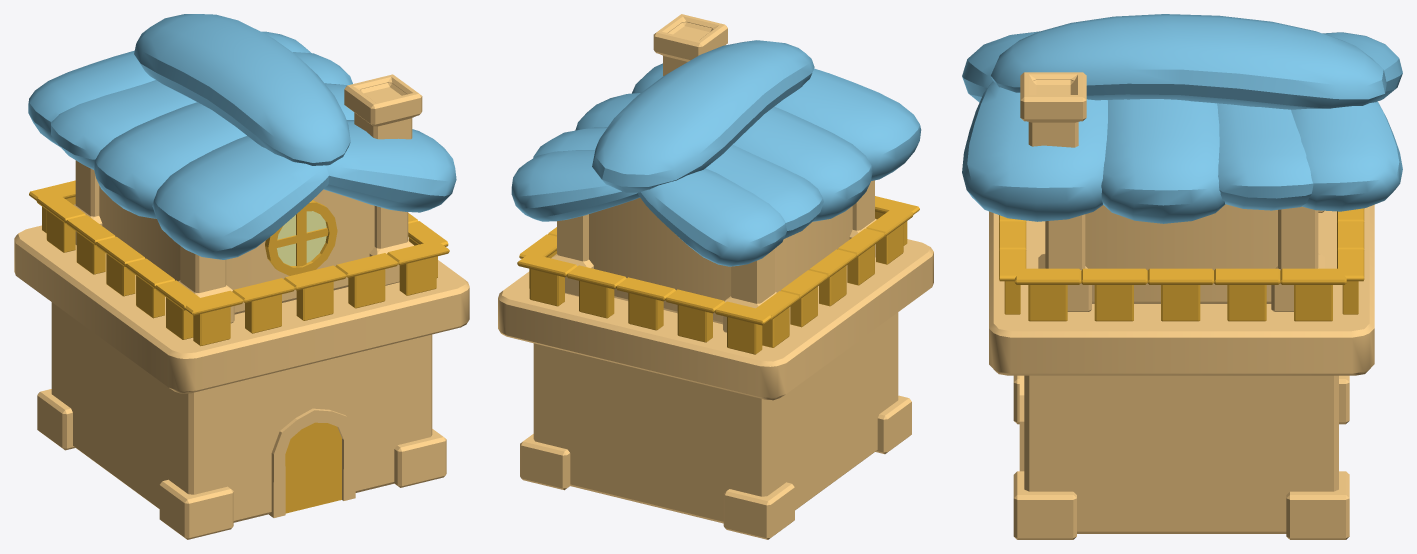
The model's file is House2.fbx.
3 renders of one model, left to right at view 1: azimuth 30°, elevation 25°; view 2: azimuth 150°, elevation 25°; view 3: azimuth 270°, elevation 25°, orthographic. The views are drawn at different scales.
Parts seen in each view (by area): view 1: Cube.008, Cube.009, Cube.010, Cube.017, Cube.018, Cube.011, Cube.016, Cube.013, Cube.015, Cube.012, Cylinder.005, Cube.014; view 2: Cube.008, Cube.009, Cube.010, Cube.017, Cube.018, Cube.011, Cube.016, Cube.015; view 3: Cube.008, Cube.009, Cube.010, Cube.018, Cube.011, Cube.016, Cube.017, Cube.015, Cube.012.
Boxes of the visible parts, box(x1,y1,x2,y2) form: Cube.008: box(14, 186, 469, 522); Cube.009: box(28, 31, 456, 259); Cube.010: box(134, 14, 350, 165); Cube.017: box(29, 180, 449, 346); Cube.018: box(36, 193, 448, 339); Cube.011: box(37, 389, 446, 539); Cube.016: box(74, 160, 413, 323); Cube.013: box(285, 422, 341, 513); Cube.015: box(344, 74, 422, 139); Cube.012: box(269, 408, 355, 517); Cylinder.005: box(265, 200, 337, 275); Cube.014: box(276, 211, 328, 266); Cube.008: box(498, 197, 933, 523); Cube.009: box(511, 63, 921, 266); Cube.010: box(592, 40, 814, 192); Cube.017: box(517, 196, 919, 354); Cube.018: box(519, 208, 913, 347); Cube.011: box(520, 395, 911, 539); Cube.016: box(551, 180, 876, 332); Cube.015: box(653, 14, 727, 75); Cube.008: box(989, 204, 1374, 533); Cube.009: box(962, 31, 1402, 223); Cube.010: box(991, 14, 1386, 109); Cube.018: box(1014, 268, 1346, 321); Cube.011: box(1013, 375, 1349, 539); Cube.016: box(1038, 206, 1324, 311); Cube.017: box(999, 208, 1364, 314); Cube.015: box(1020, 72, 1086, 147); Cube.012: box(1019, 375, 1024, 471).
Bounding box in the file's own units: 104 × 134 × 119.
